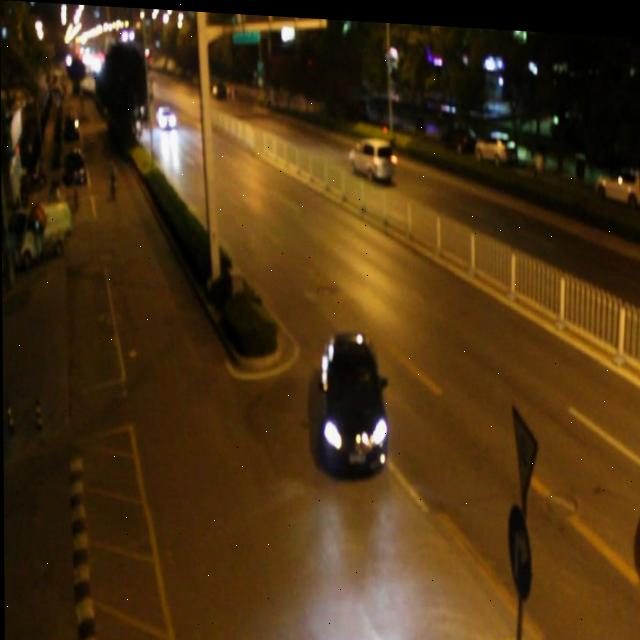car: (315, 327, 384, 466), (349, 132, 395, 179), (156, 101, 177, 126)
